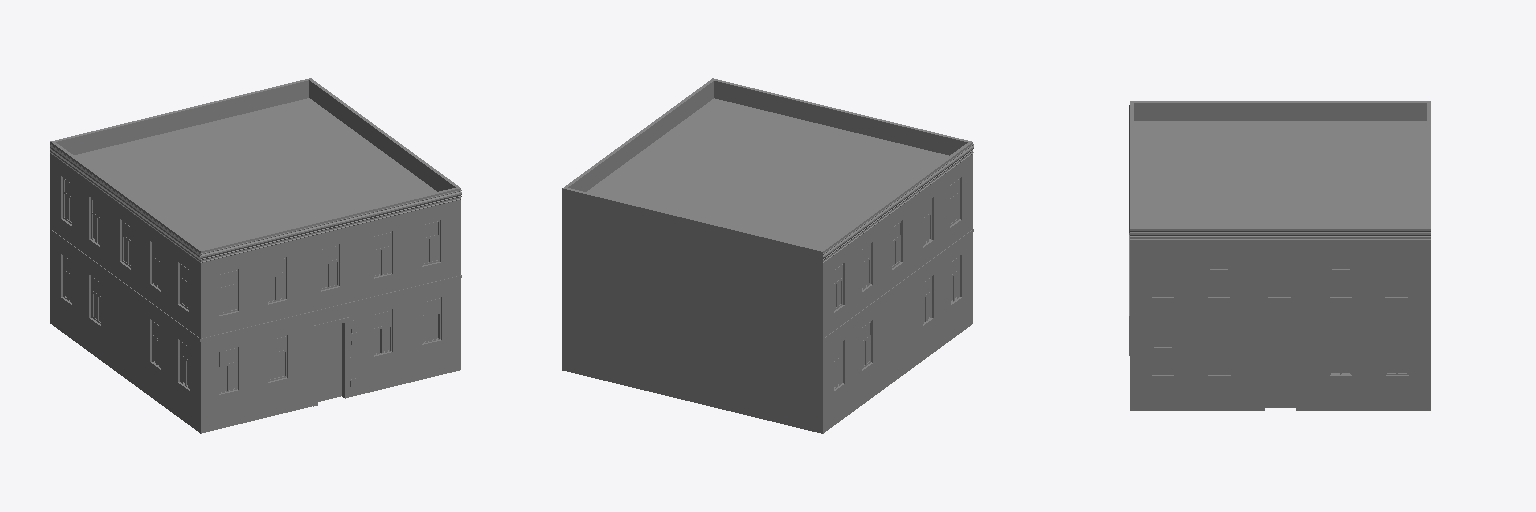
File: Old_Building.obj
3 renders of one model, left to right at view 1: azimuth 30°, elevation 25°; view 2: azimuth 150°, elevation 25°; view 3: azimuth 270°, elevation 25°, orthographic.
Parts seen in each view (by area): view 1: Old_Building_01; view 2: Old_Building_01; view 3: Old_Building_01.
Part boxes in pixels (left/top/right/bottom): Old_Building_01: left=50, top=78, right=461, bottom=433; Old_Building_01: left=562, top=78, right=973, bottom=433; Old_Building_01: left=1129, top=101, right=1430, bottom=410.
Size of the model in its own units: 465 by 309 by 463.